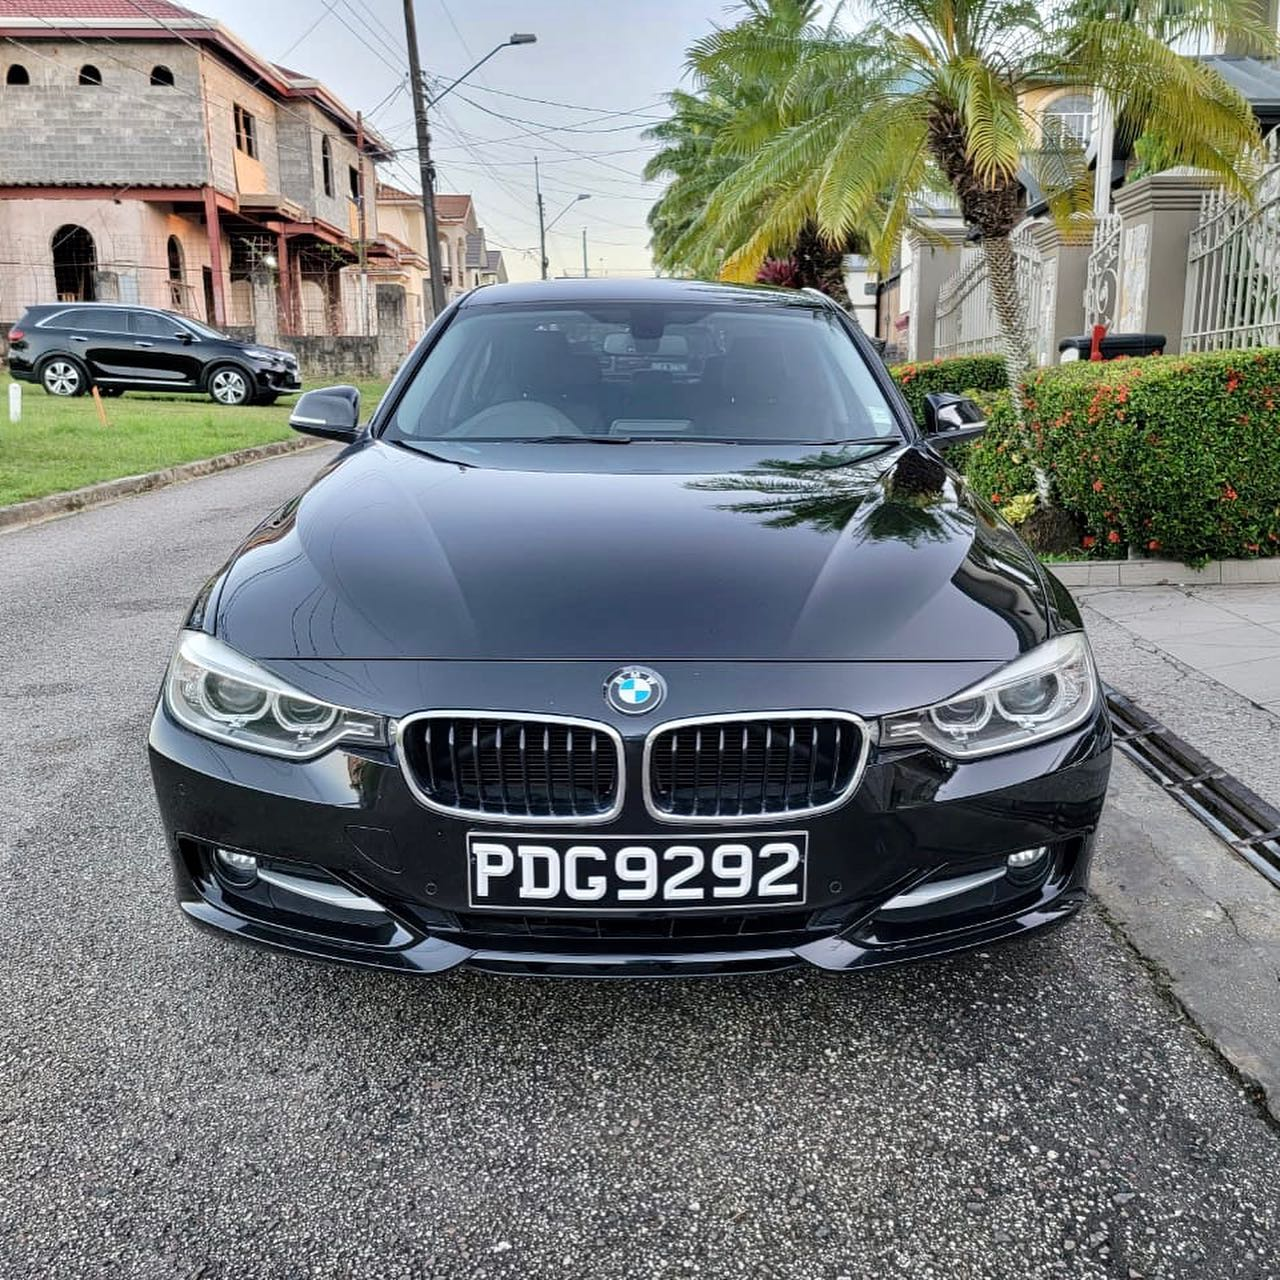License-Plate: (468, 836, 804, 906)
